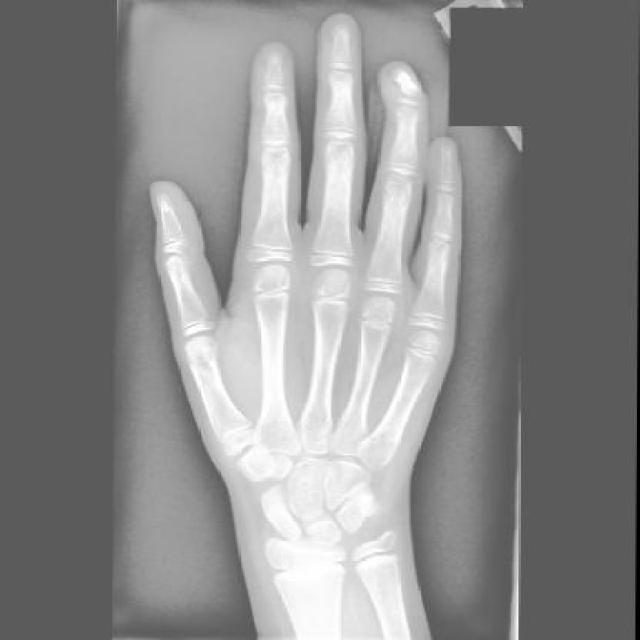Fracture: (392, 83, 422, 105)
